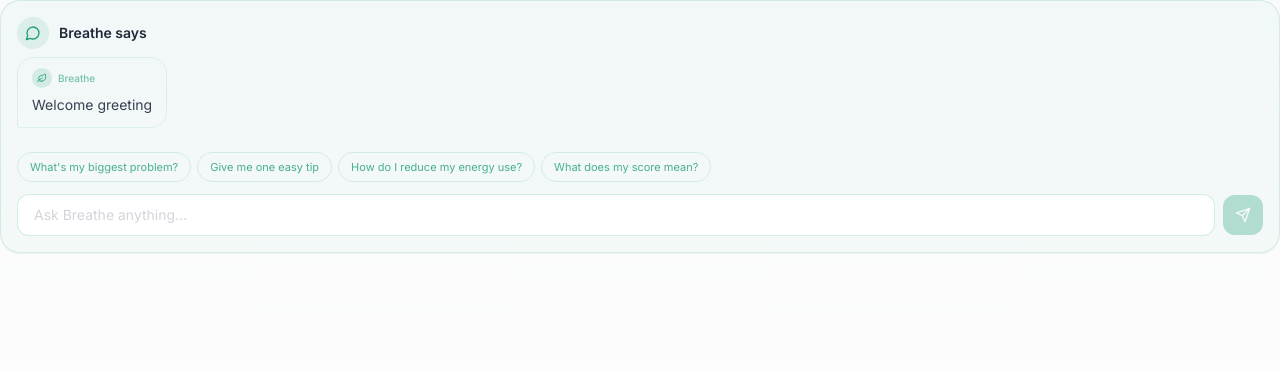
Test: ChatBot Component › shows rate-limit warning when send-message API call hits 429 with no retries
Check: the text "Welcome greeting" is shown, box [32,94,152,117]
Type "Test question" into the field with placeholder "Ask Breathe anything..." at (616, 215), box [17,194,1215,236]
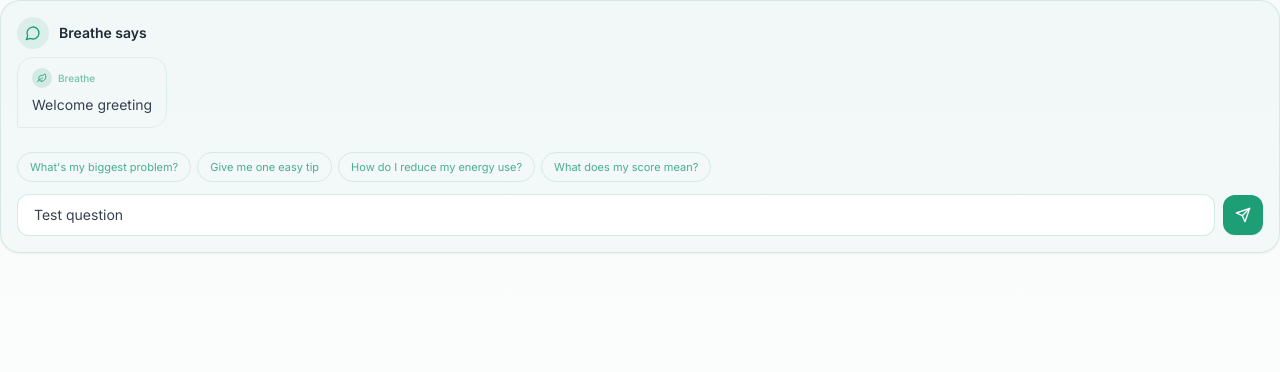
Submit the form with placeholder "Ask Breathe anything", box [17,194,1263,236]
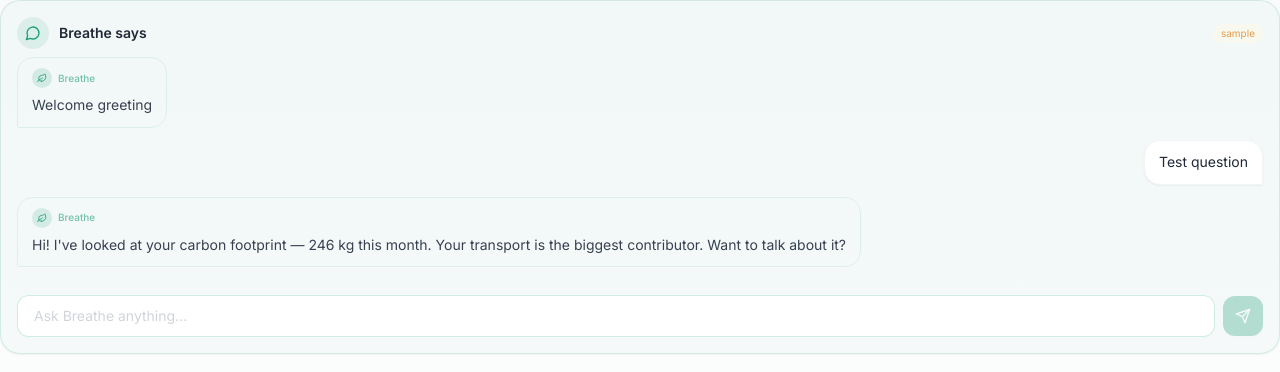
Check: the text "Hi! I've looked at your carbon footprint" is shown, box [32,236,846,252]
